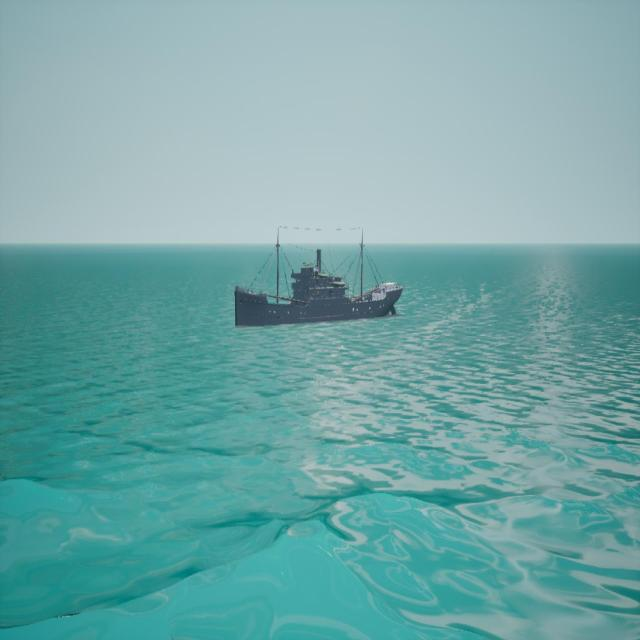fishing ship: (234, 228, 404, 330)
